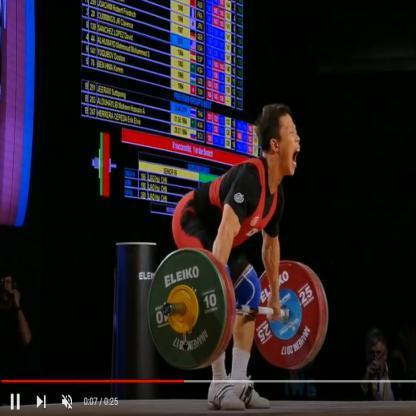barbell: (147, 245, 330, 372)
